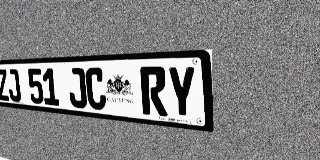1: (41, 68, 59, 106)
5: (27, 69, 44, 104)
C: (85, 67, 107, 111)
J: (67, 68, 87, 109), (6, 69, 21, 102)
R: (140, 66, 168, 116)
Y: (166, 66, 197, 119)
Z: (0, 69, 10, 101)
